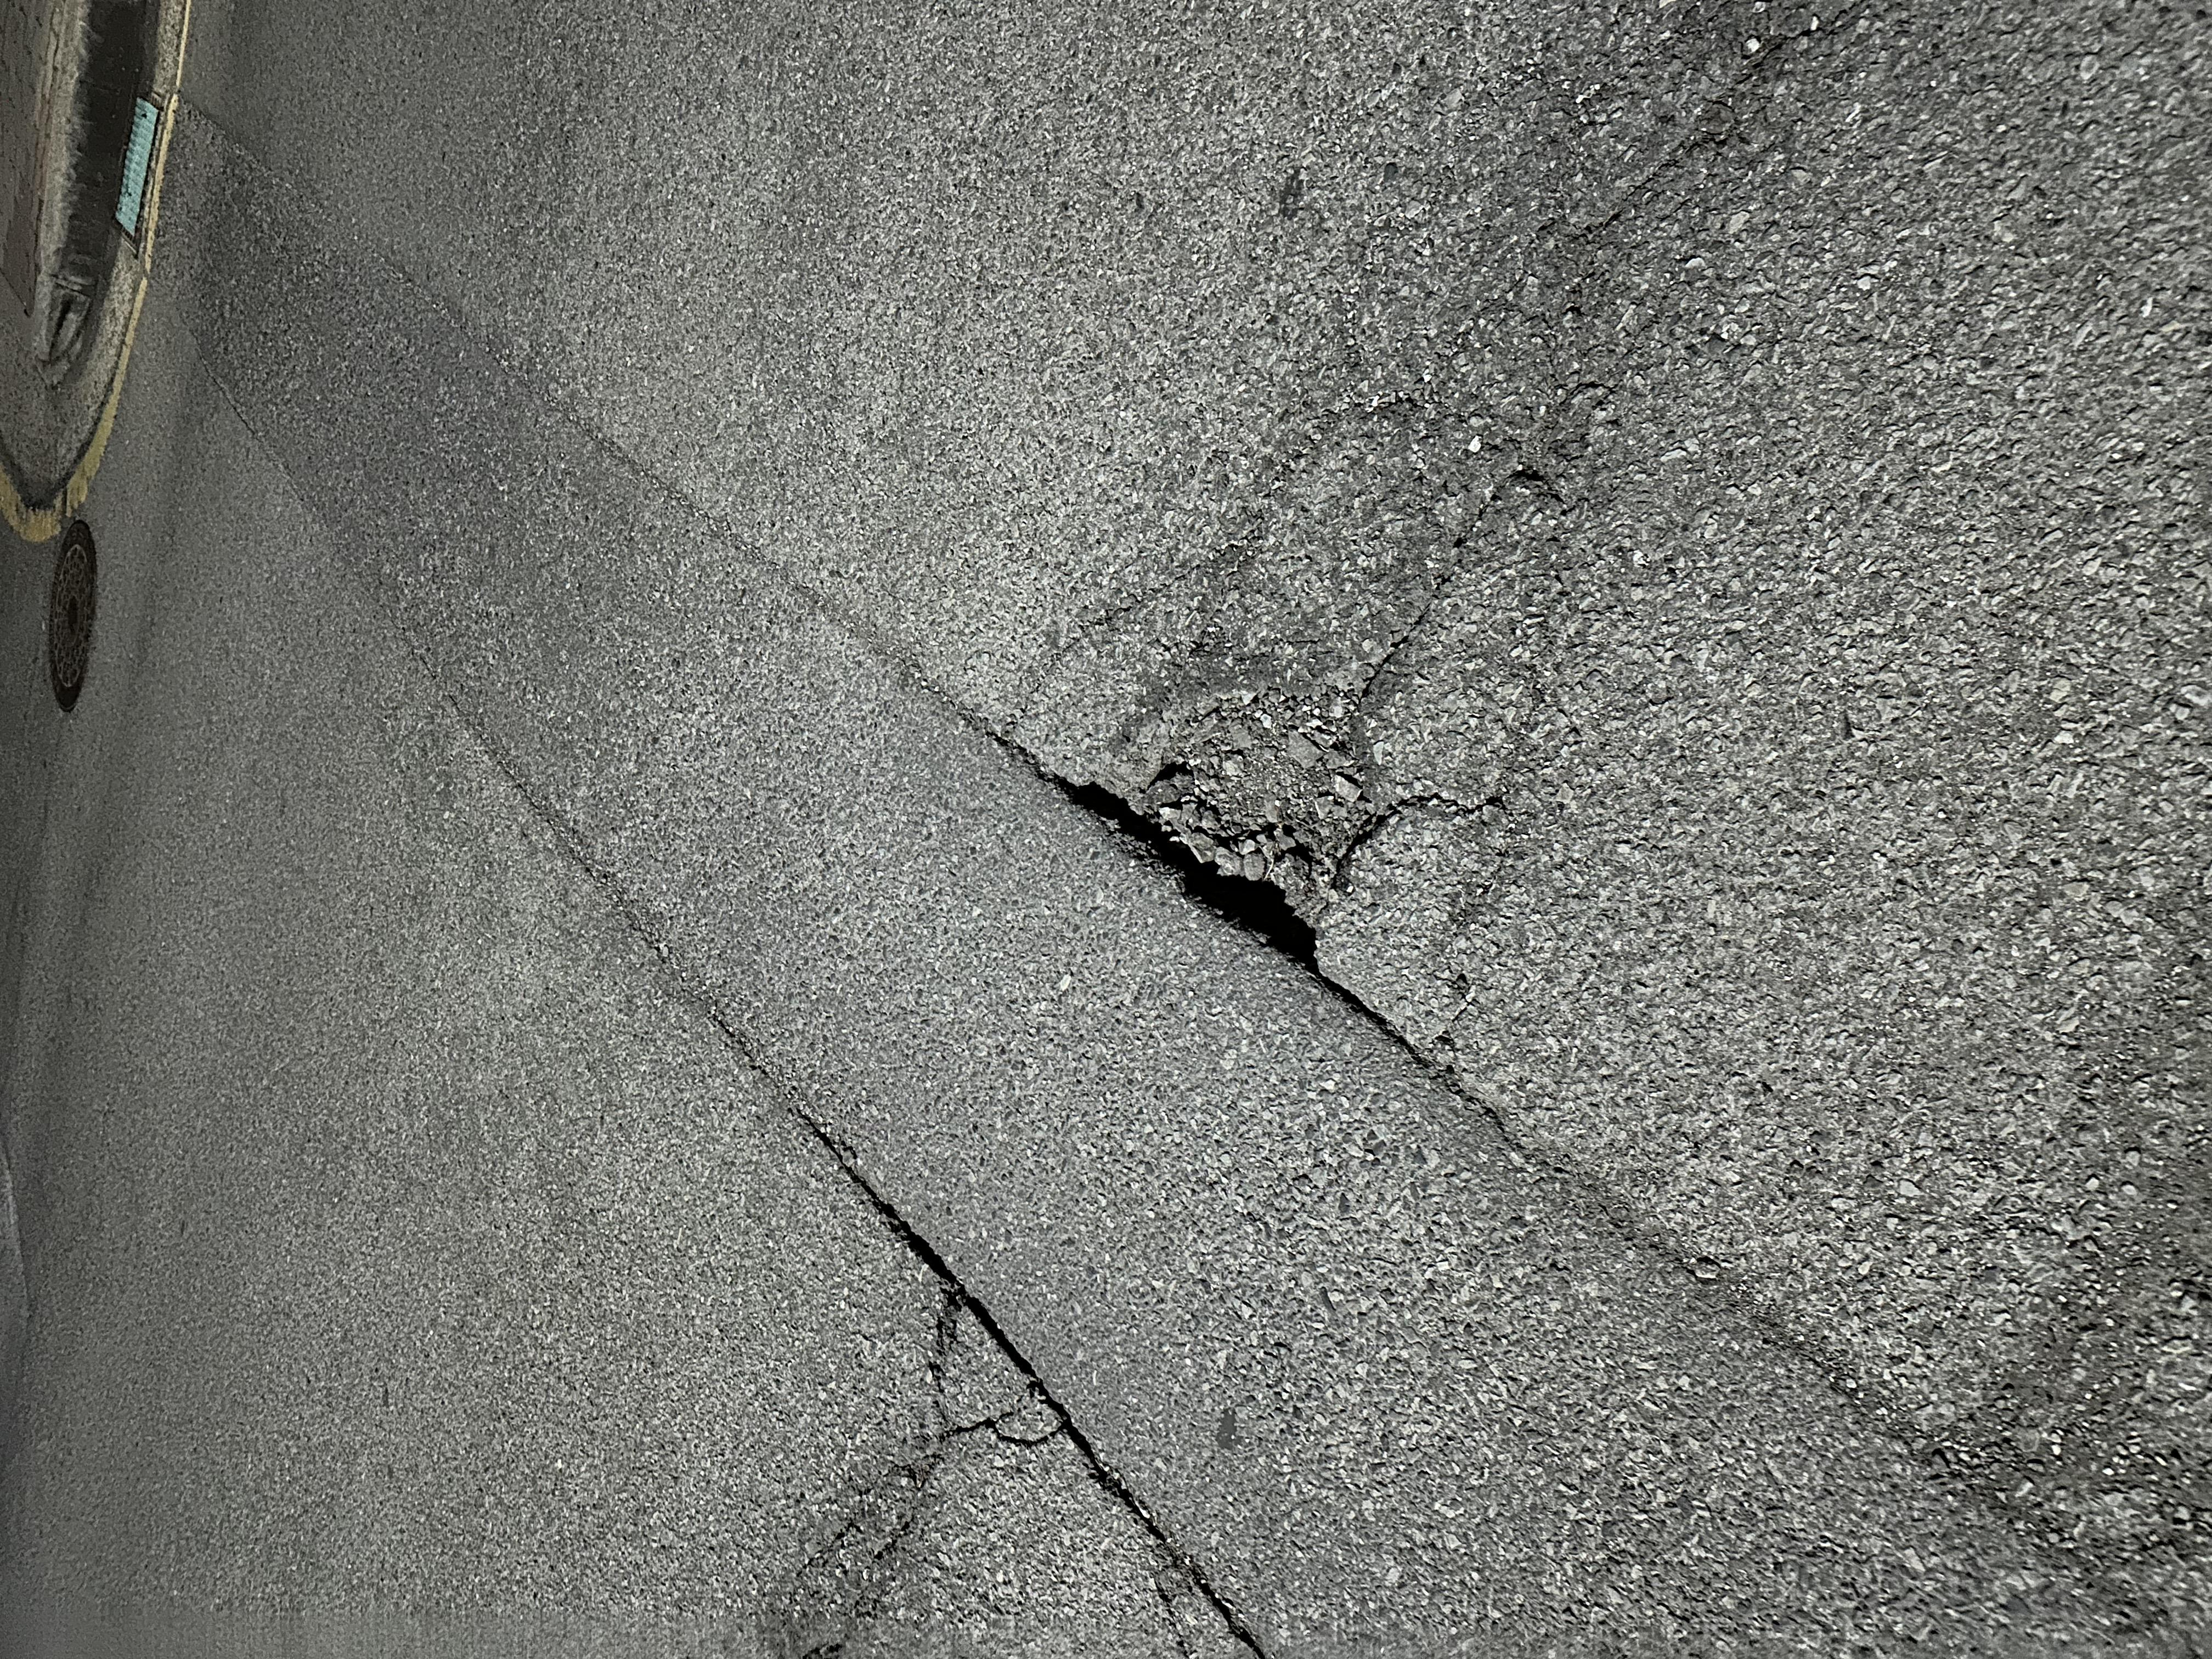pothole: (878, 782, 1388, 1046)
